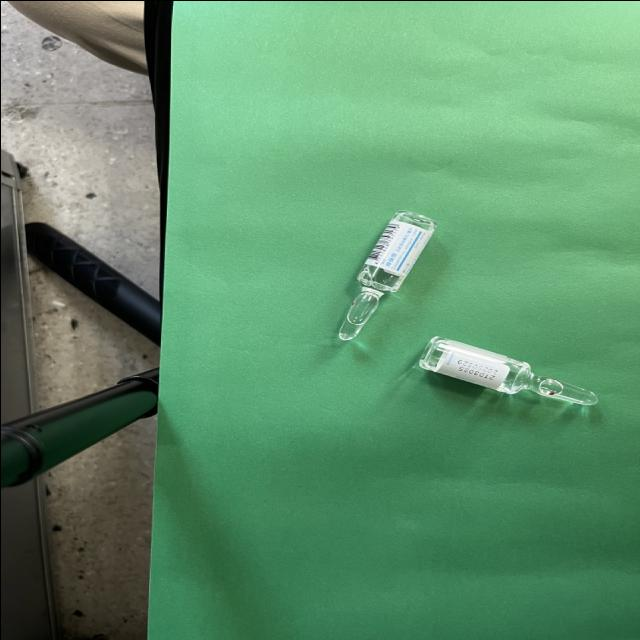Ampoules: (337, 210, 434, 340), (418, 336, 596, 404)
